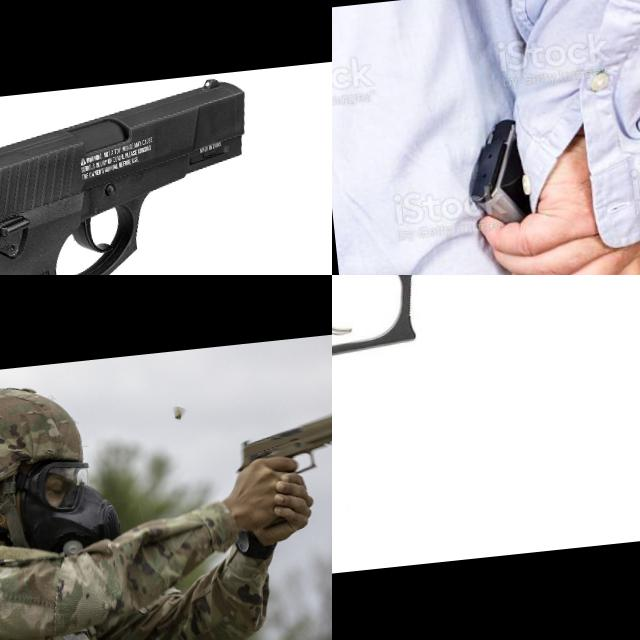handgun: (332, 275, 640, 595), (0, 72, 288, 275), (456, 102, 640, 275), (226, 403, 332, 483)
